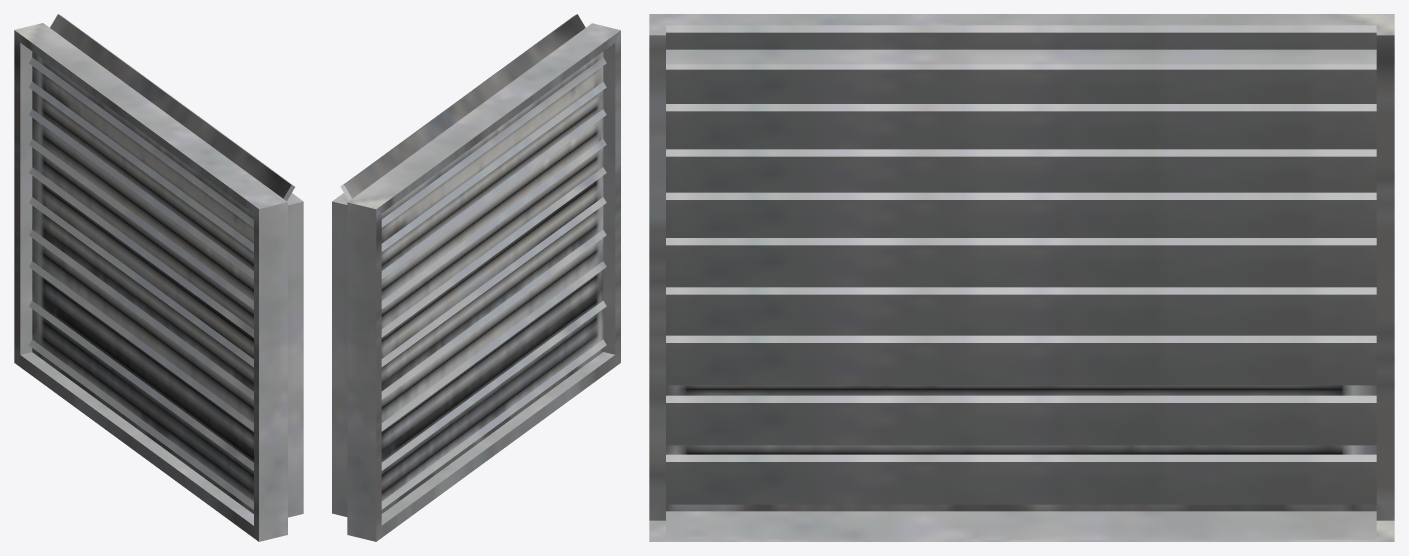
File: duct_end.fbx
3 views of the same model, side by side, from view 1: azimuth 30°, elevation 25°; view 2: azimuth 150°, elevation 25°; view 3: azimuth 270°, elevation 25° (orthographic). The views are drawn at different scales.
Parts seen in each view (by area): view 1: 2D_grid, duct_end, 3D_grid; view 2: 2D_grid, duct_end, 3D_grid; view 3: 3D_grid, duct_end, 2D_grid.
Boxes of the visible parts, x1,y1,x2,y2 form: 2D_grid: (32,51,253,513); duct_end: (14,23,303,541); 3D_grid: (29,14,294,509); 2D_grid: (381,52,603,513); duct_end: (332,23,620,541); 3D_grid: (340,14,606,509); 3D_grid: (666,25,1376,504); duct_end: (649,14,1394,541); 2D_grid: (666,385,1376,511).
Size of the model in its own units: 18.92 by 124 by 160.
